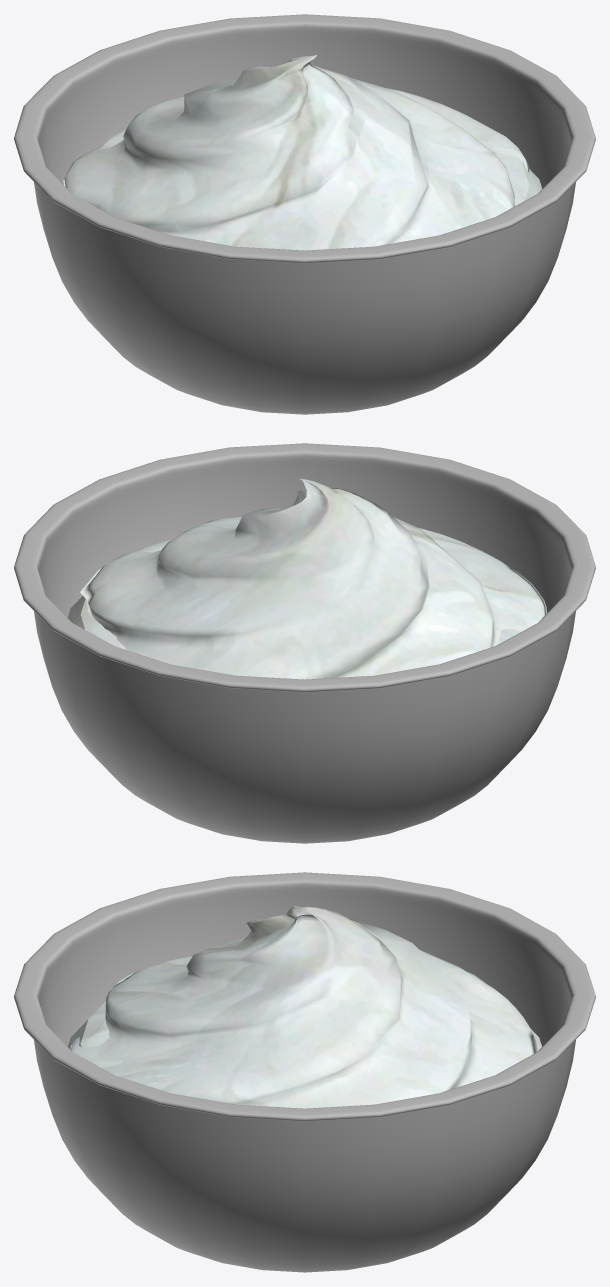
Rendered from cream_bowl_.fbx.
The picture shows the model from 3 angles, top to bottom: view 1: azimuth 30°, elevation 25°; view 2: azimuth 150°, elevation 25°; view 3: azimuth 270°, elevation 25°; orthographic projection.
Parts seen in each view (by area): view 1: bowl, ice_cream_smooth:cream_fin, cream; view 2: bowl, ice_cream_smooth:cream_fin, cream; view 3: bowl, ice_cream_smooth:cream_fin, cream.
Part boxes in pixels (box(x1,y1,x2,y2)): bowl: box(14, 14, 595, 414); ice_cream_smooth:cream_fin: box(63, 54, 530, 250); cream: box(99, 130, 542, 206); bowl: box(14, 443, 595, 843); ice_cream_smooth:cream_fin: box(80, 478, 547, 679); cream: box(67, 539, 520, 649); bowl: box(14, 872, 595, 1272); ice_cream_smooth:cream_fin: box(70, 906, 537, 1108); cream: box(68, 1001, 541, 1051).
Bounding box in the file's own units: 11.92 × 6.87 × 11.92.
